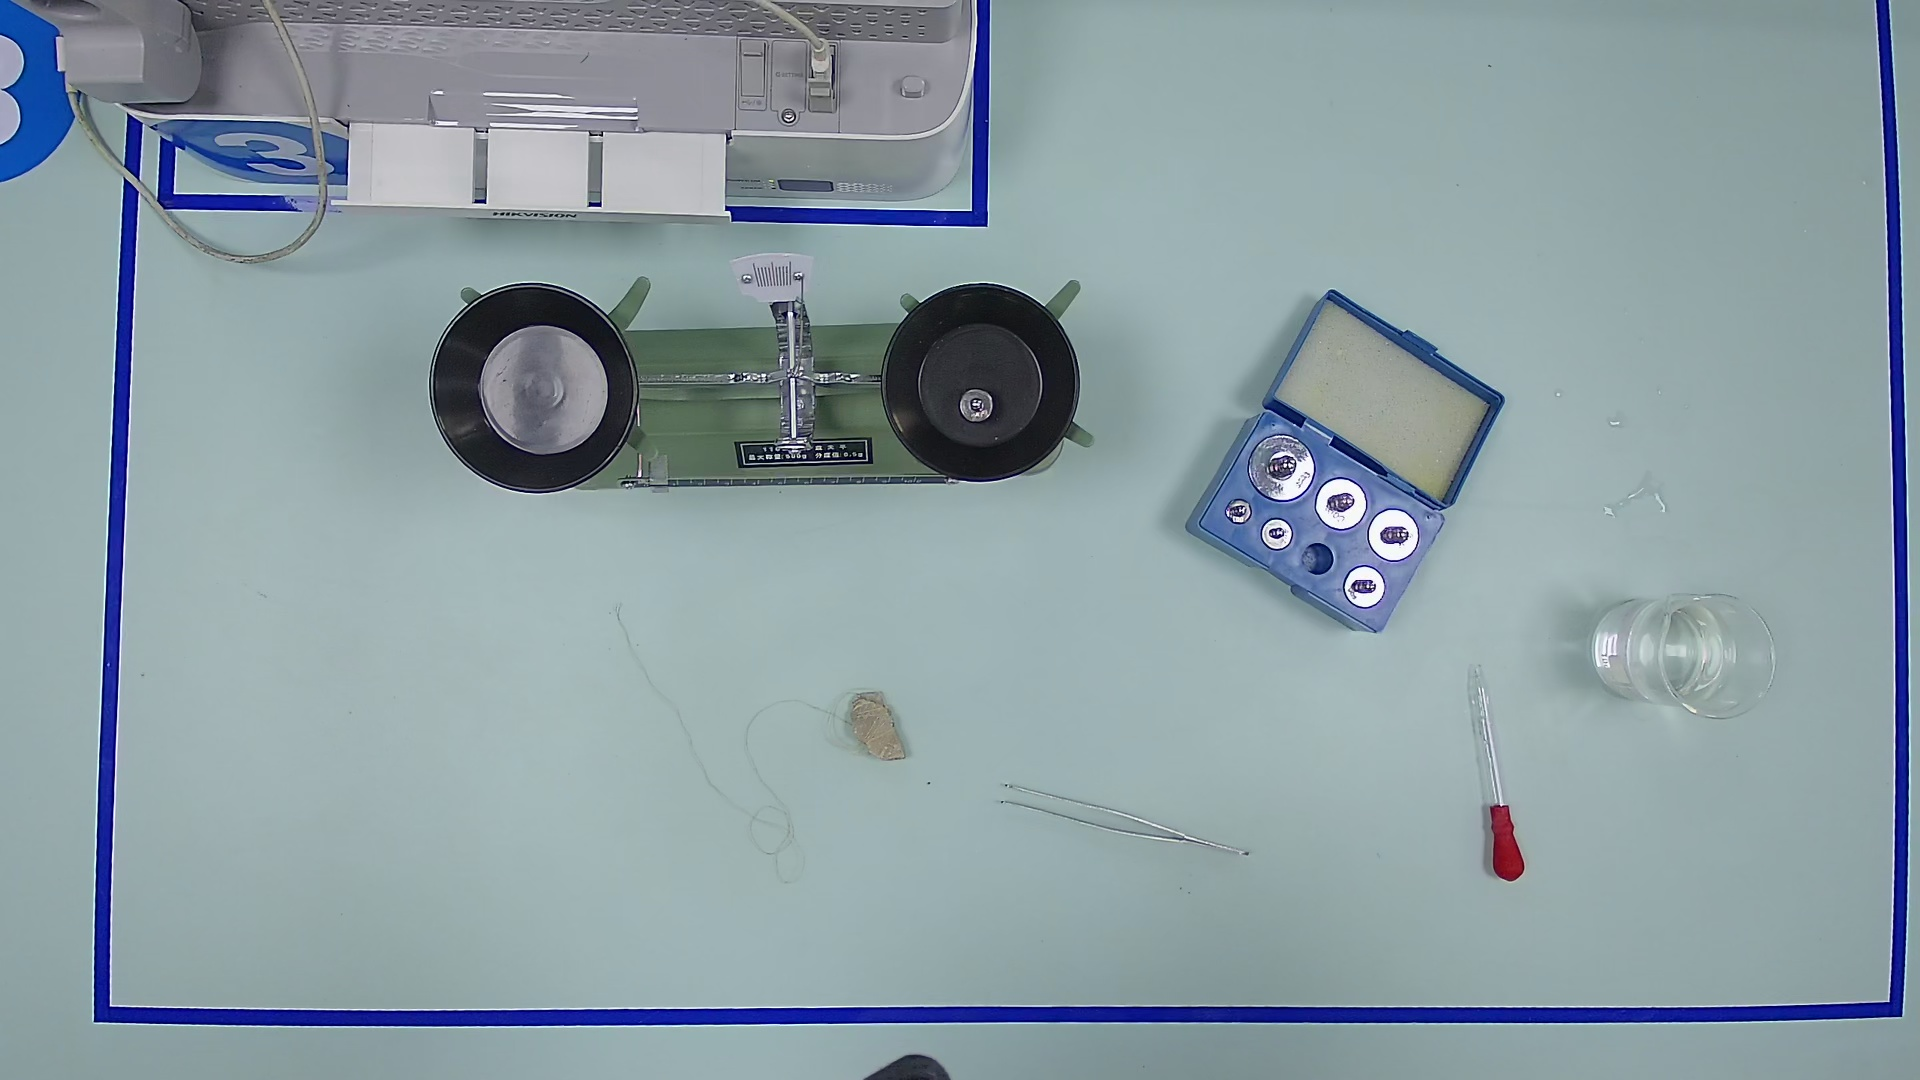bei: (1592, 575, 1776, 729)
diguan: (1439, 646, 1542, 891)
diguantou: (1477, 794, 1538, 887)
fama: (1244, 435, 1317, 502), (1366, 506, 1422, 562), (1313, 477, 1367, 531), (1342, 563, 1385, 611), (957, 388, 996, 426), (1258, 516, 1294, 553), (1224, 497, 1251, 526)
gan: (609, 446, 947, 518)
he: (1151, 409, 1453, 653)
niezi: (986, 781, 1246, 858)
pointer: (735, 249, 812, 299)
shi: (835, 682, 923, 771)
tuo: (860, 261, 1106, 508), (413, 266, 659, 513)
you: (642, 451, 676, 500)
